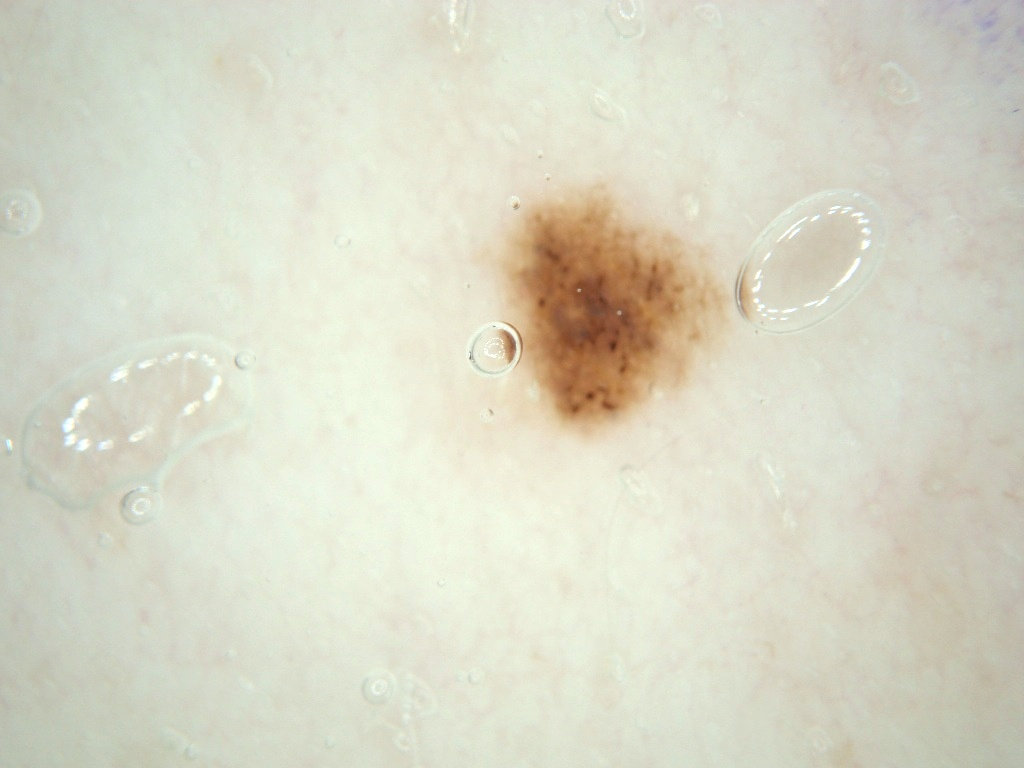Detected Lesion: (484, 190, 744, 433)
